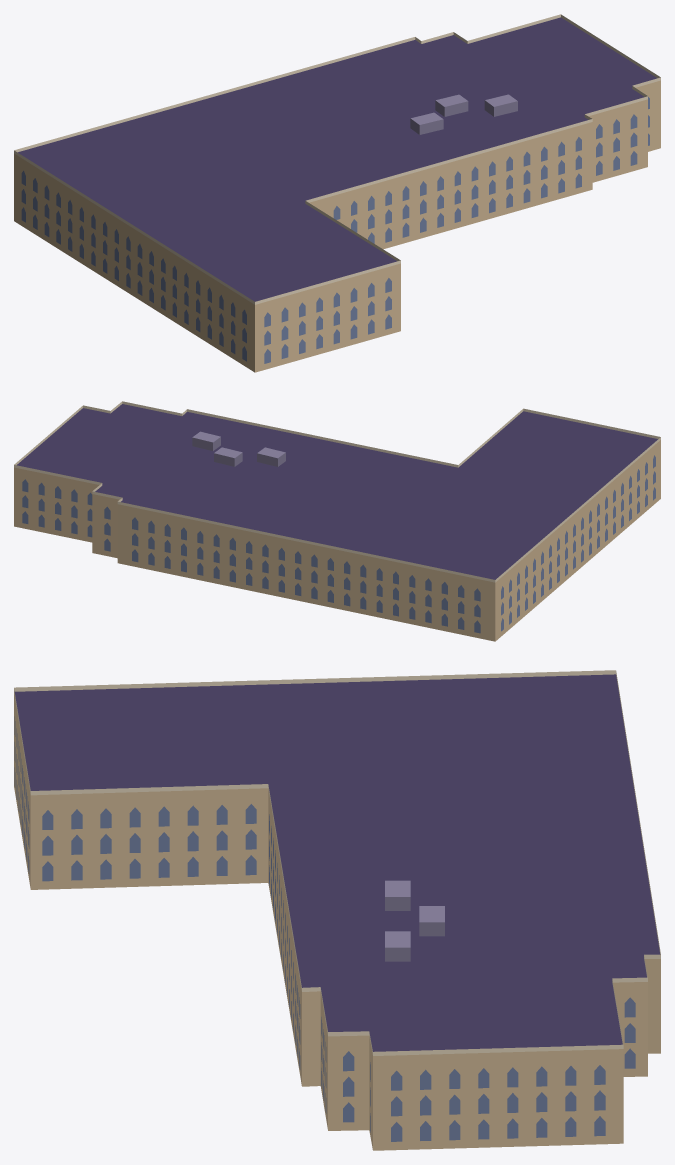
The model's file is b-114-western-student-recreation-centre-day.glb.
3 views of the same model, one above another, from view 1: azimuth 30°, elevation 25°; view 2: azimuth 150°, elevation 25°; view 3: azimuth 270°, elevation 25° (orthographic). The views are drawn at different scales.
Parts seen in each view (by area): view 1: campus/b-114-western-student-recreation-centre-day-0; view 2: campus/b-114-western-student-recreation-centre-day-0; view 3: campus/b-114-western-student-recreation-centre-day-0.
Boxes of the visible parts, box(x1,y1,x2,y2) form: campus/b-114-western-student-recreation-centre-day-0: box(14, 14, 660, 372); campus/b-114-western-student-recreation-centre-day-0: box(14, 401, 660, 641); campus/b-114-western-student-recreation-centre-day-0: box(14, 670, 660, 1150).
Bounding box in the file's own units: 105 × 14 × 75.55.
